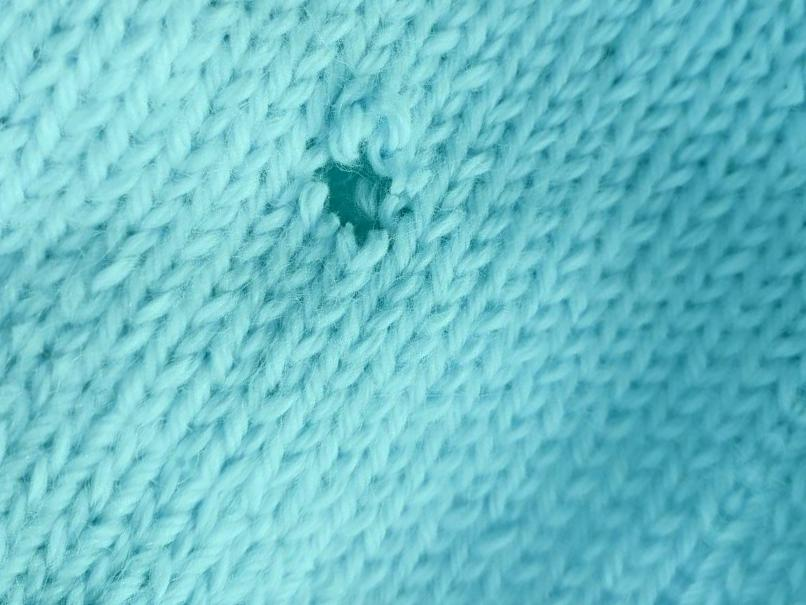hole: (305, 119, 413, 257)
